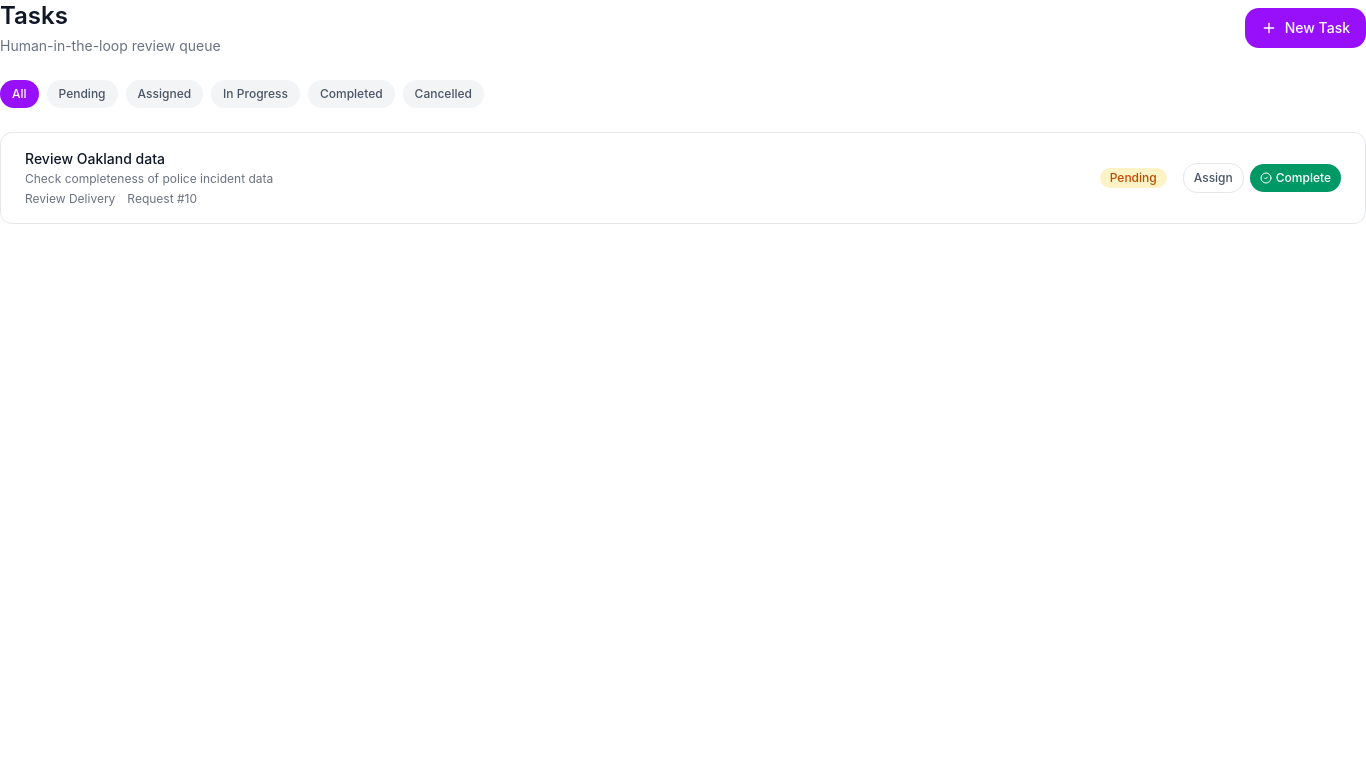
Test: TasksContent › disables dialog Assign button when input is empty
expect the text "Review Oakland data" is shown: met, box top-left (25, 150), bottom-right (165, 167)
What coordinates should you click on to do the following:
click the button "Assign"
I would click on:
 (1213, 178)
Its box is top-left (1183, 163), bottom-right (1244, 193).
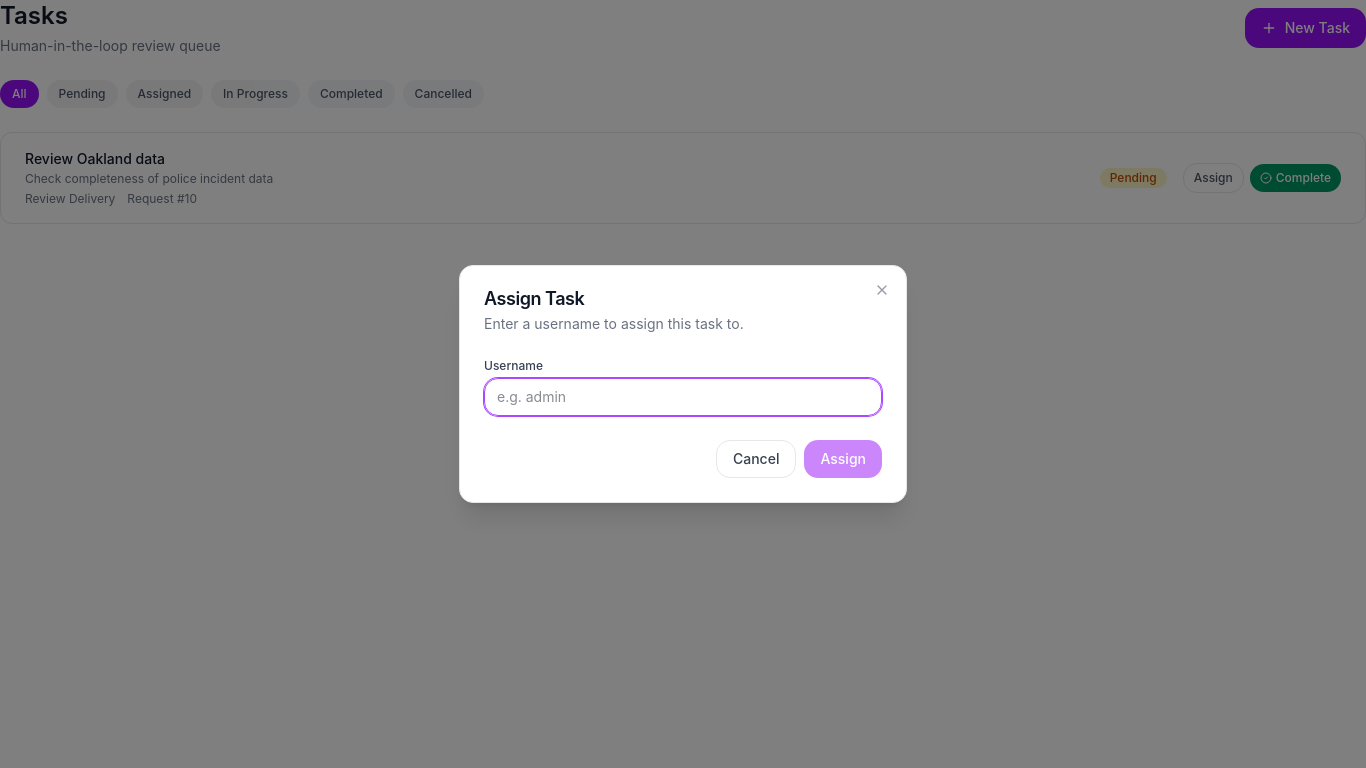
expect the heading "Assign Task" is shown: met, box top-left (484, 288), bottom-right (584, 309)
expect the button "Assign" is disabled: met, box top-left (804, 440), bottom-right (882, 478)
